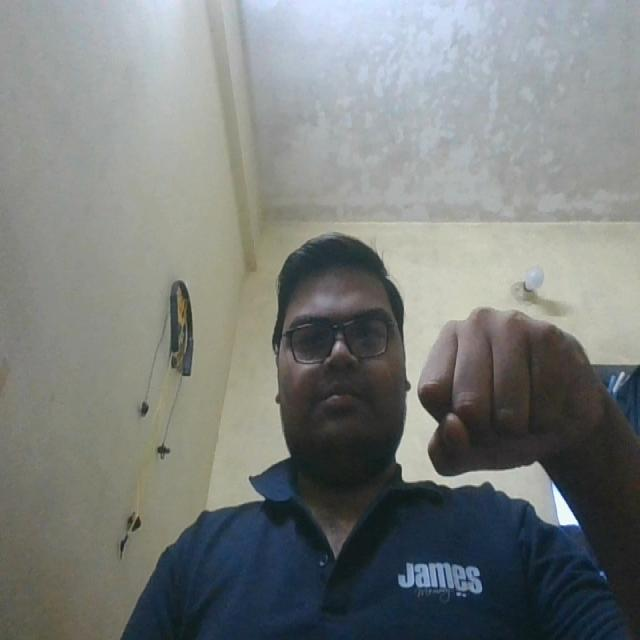Yes: (410, 288, 601, 508)
